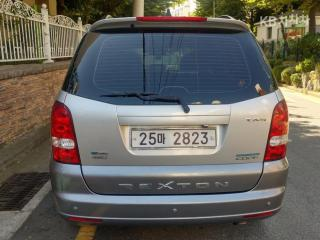2: (191, 131, 200, 146), (139, 132, 148, 146), (173, 132, 182, 146)
3: (200, 131, 210, 144)
5: (148, 130, 157, 146)
8: (182, 131, 191, 145)
plate: (125, 125, 222, 152)
마: (156, 132, 167, 145)
